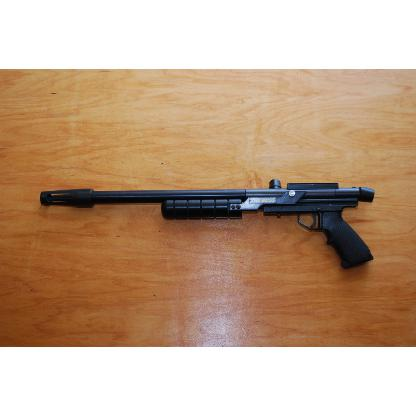gun: (40, 176, 374, 268)
